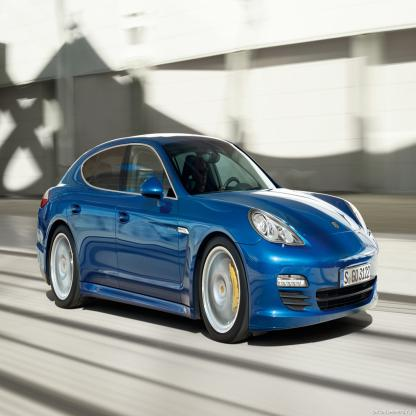Vehicle: (36, 132, 380, 344)
